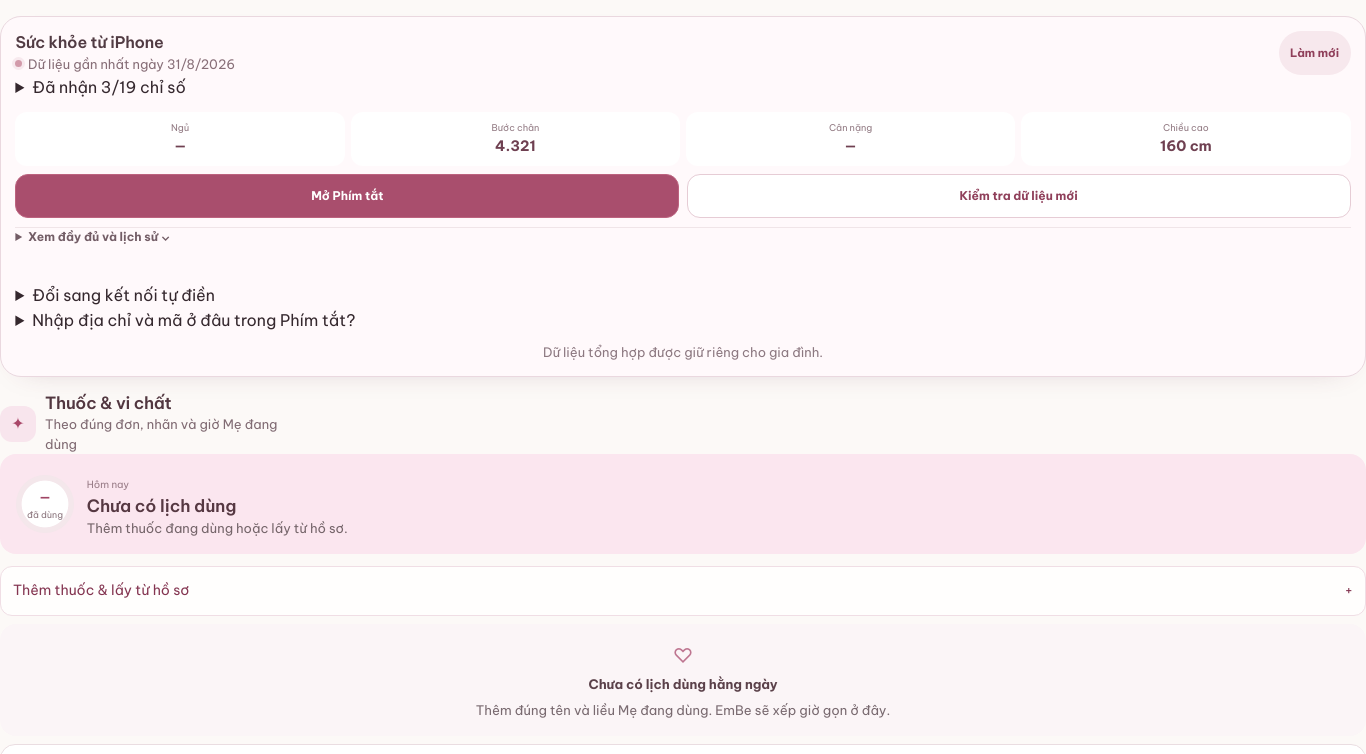
Test case: iPhone health connection state › shows individual receipt times and partial blood pressure without treating old readings as current
Click the heading "Xem đầy đủ và lịch sử ⌄": (99, 237) [28, 229, 170, 244]
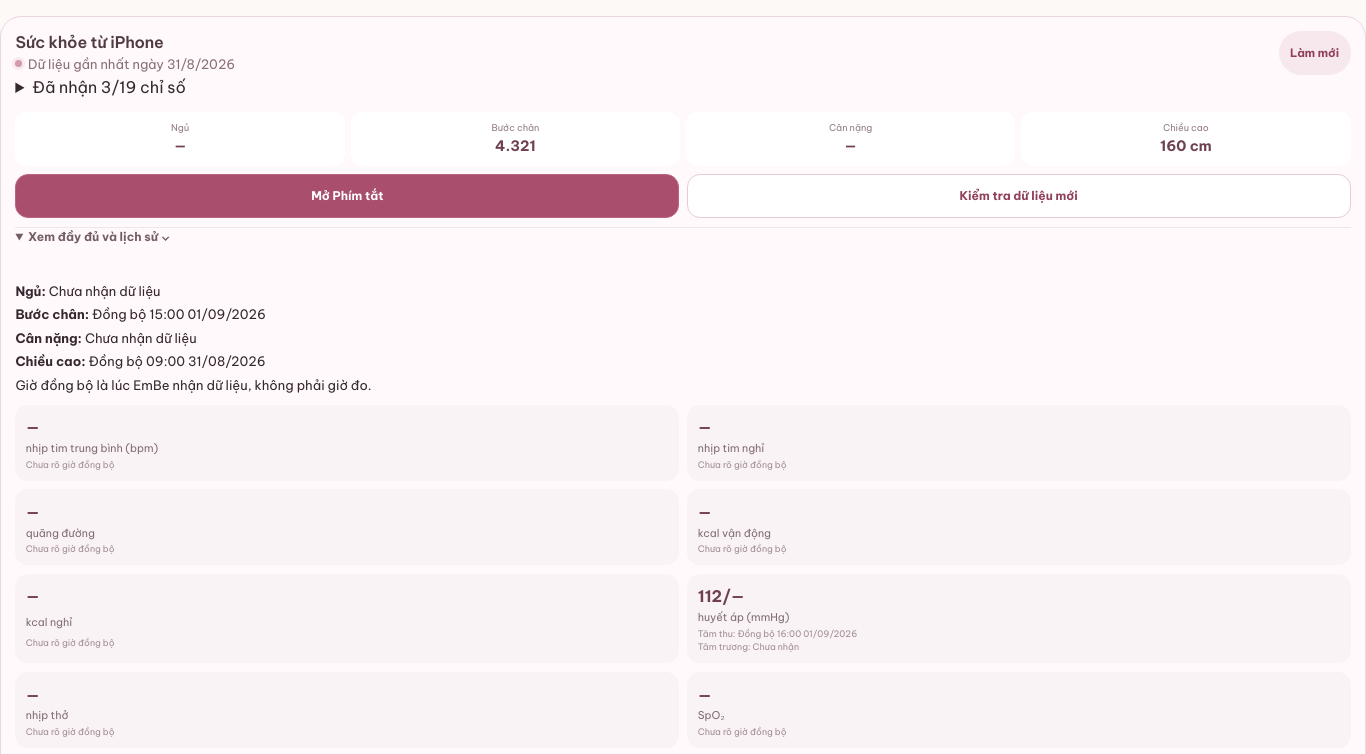
Expected: the element named "Thời điểm nhận chỉ số tóm tắt" shows "31/08/2026", [89, 353, 266, 369]
Expected: the element named "Thời điểm nhận chỉ số tóm tắt" shows "15:00", [92, 306, 266, 322]
Expected: the element named "Thời điểm nhận chỉ số tóm tắt" shows "Ngủ: Chưa nhận dữ liệu", [15, 283, 372, 393]
